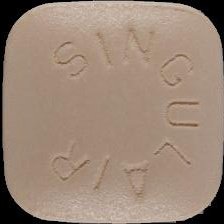0006-9117: (0, 0, 224, 224)
